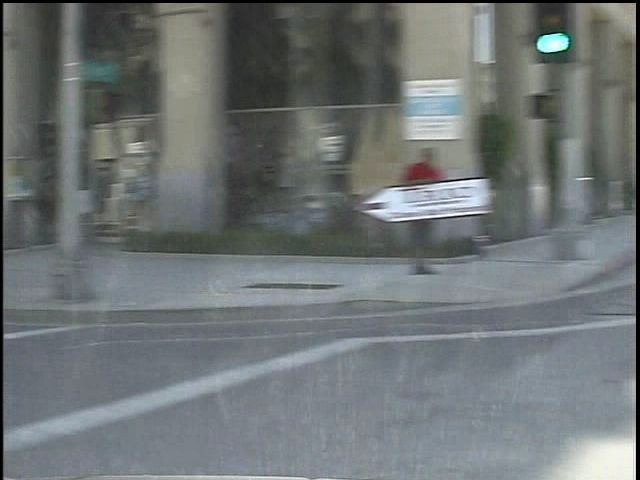person: (386, 140, 429, 282)
